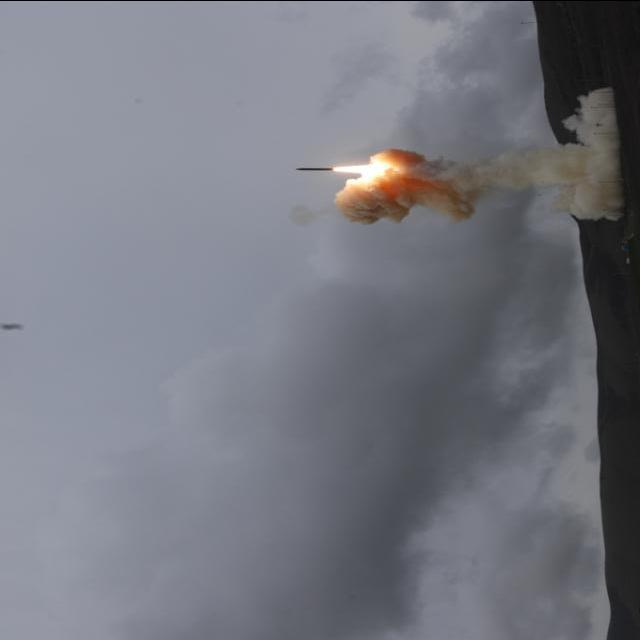missile: (294, 165, 337, 175)
